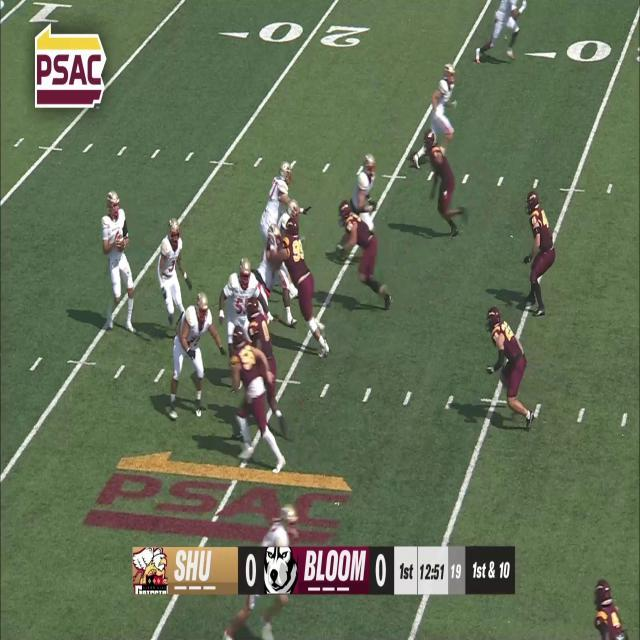football: (115, 231, 126, 253)
